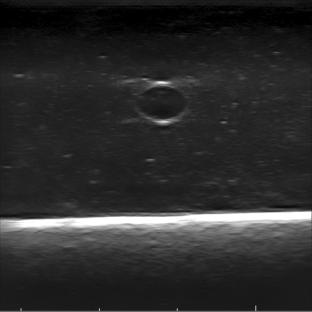vessel: (133, 80, 189, 125)
